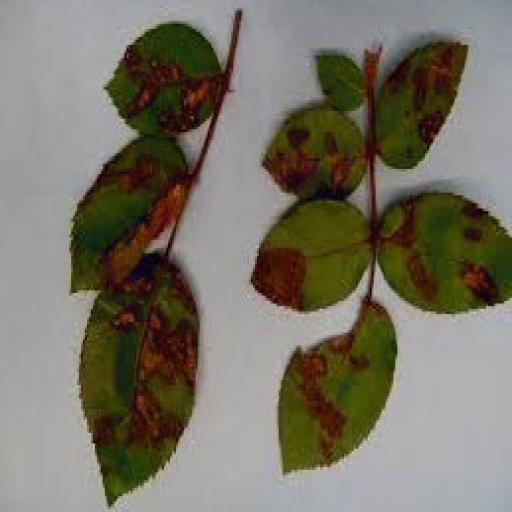downy_mildew: (80, 254, 197, 504), (279, 304, 397, 472), (72, 138, 189, 292), (380, 193, 511, 314), (252, 201, 371, 311), (107, 24, 221, 134), (376, 43, 466, 168), (263, 106, 365, 197), (317, 53, 365, 110)
